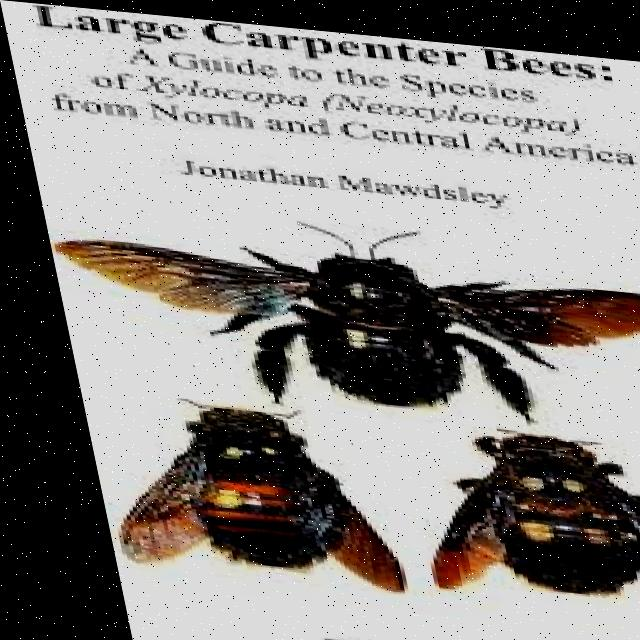Xylocopa: (56, 190, 640, 428), (73, 383, 402, 588), (395, 405, 640, 614)
